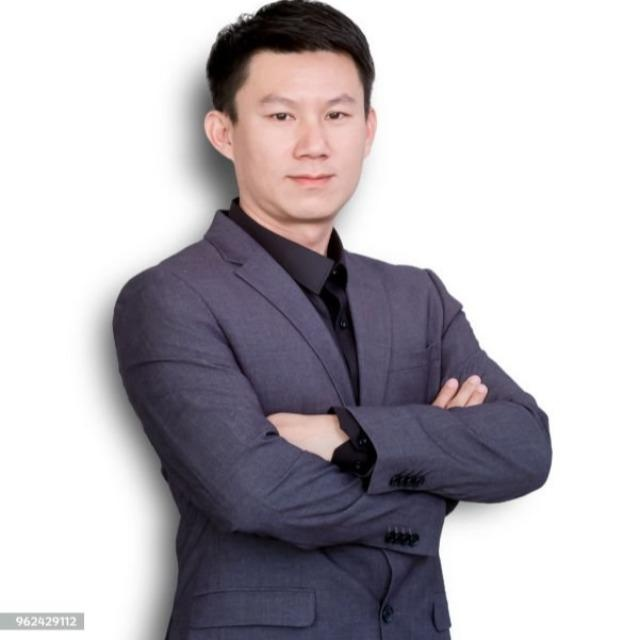Sin_Casco_Mascarrilla: (202, 4, 380, 224)
Sin_Chaleco: (139, 239, 454, 637)
